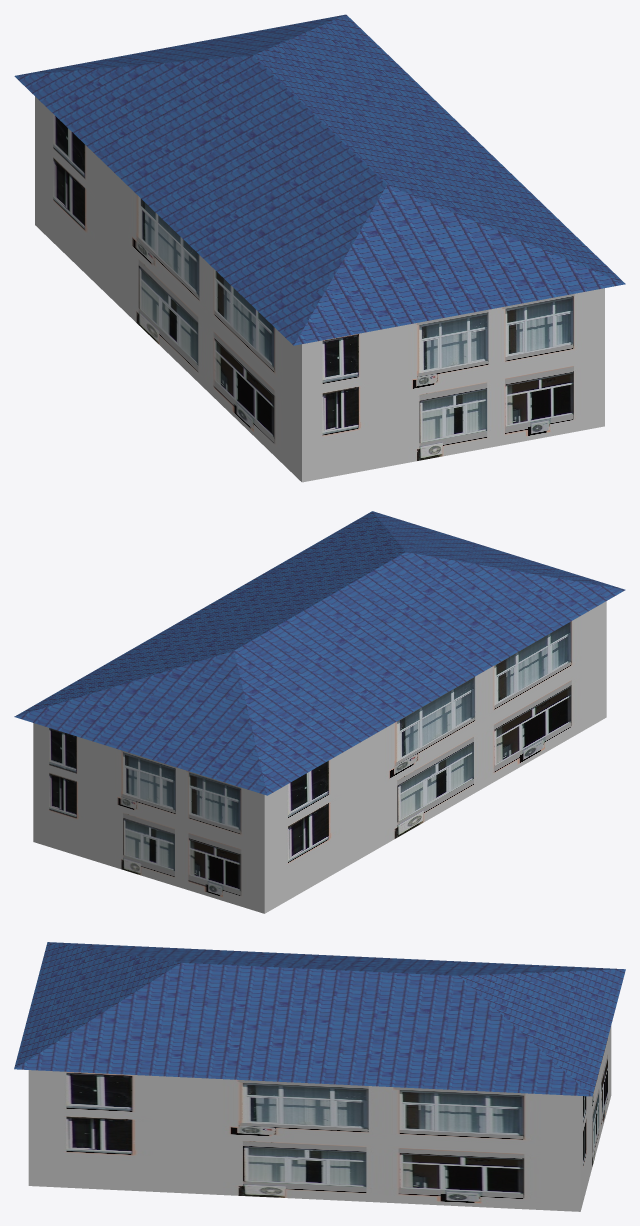
3 renders of one model, top to bottom at view 1: azimuth 30°, elevation 25°; view 2: azimuth 150°, elevation 25°; view 3: azimuth 270°, elevation 25°, orthographic. The views are drawn at different scales.
Visible parts, largest first — view 1: CityEngineMaterial_10_m, CityEngineMaterial_9_m; view 2: CityEngineMaterial_10_m, CityEngineMaterial_9_m; view 3: CityEngineMaterial_10_m, CityEngineMaterial_9_m.
Boxes of the visible parts, x1,y1,x2,y2 form: CityEngineMaterial_10_m: (14, 14, 625, 345); CityEngineMaterial_9_m: (35, 96, 604, 482); CityEngineMaterial_10_m: (14, 511, 625, 795); CityEngineMaterial_9_m: (33, 601, 606, 913); CityEngineMaterial_10_m: (14, 942, 625, 1096); CityEngineMaterial_9_m: (28, 1026, 611, 1211).
Size of the model in its own units: 25.64 by 13.28 by 42.93.
